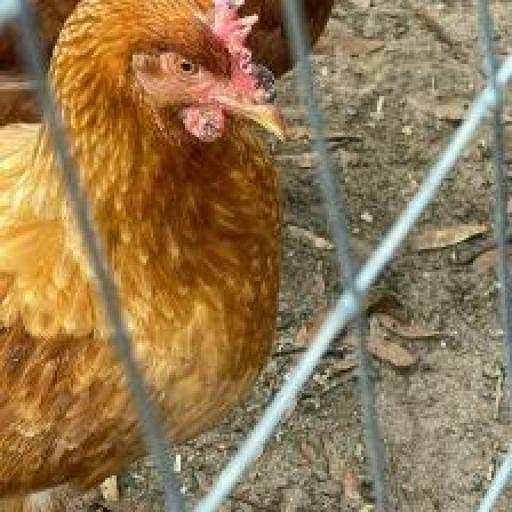disease: (231, 8, 295, 106), (164, 93, 238, 148)
